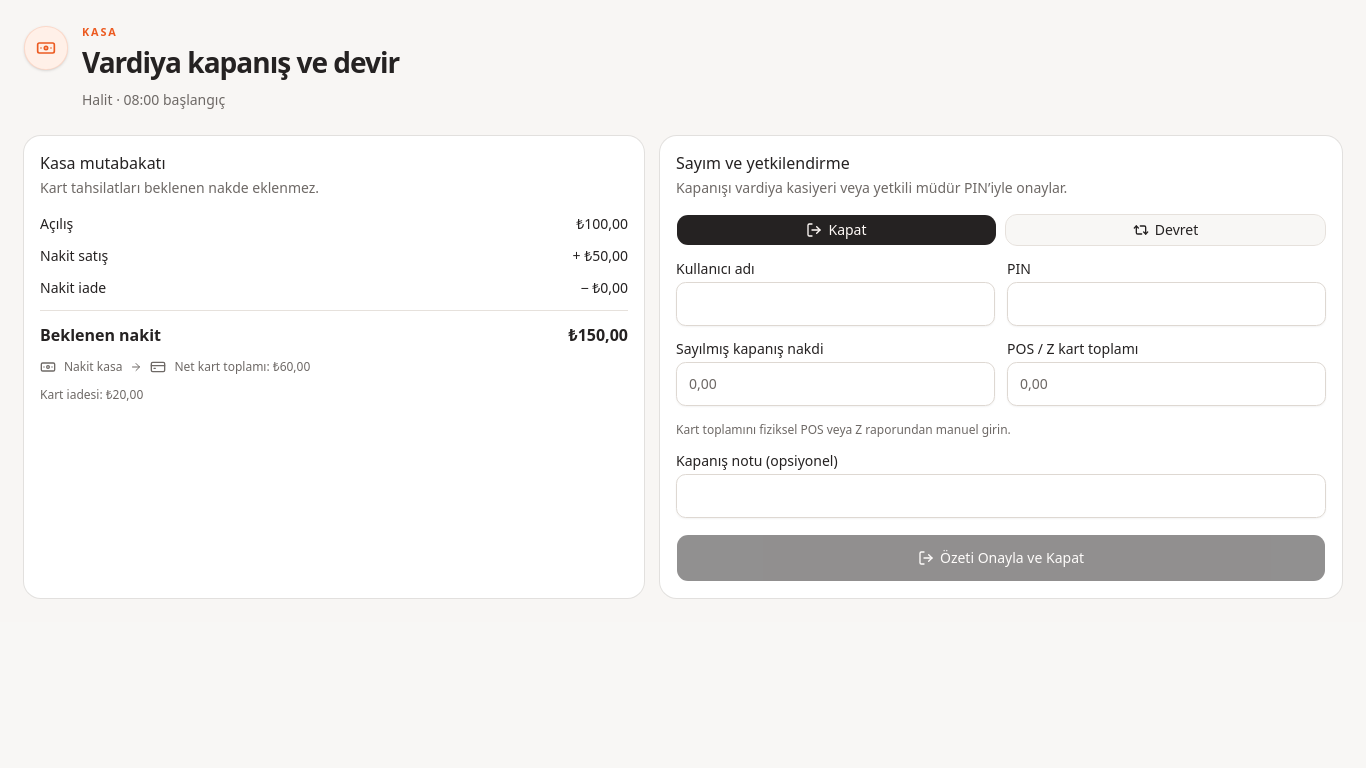
CashierShiftPage › compares the POS total with net card sales: 60,00
Expected: the heading "Vardiya kapanış ve devir" is shown, [82,44,399,82]
Step 1. Type "150,00" into the field labelled "Sayılmış kapanış nakdi" → (836, 384), box [676,362,995,406]
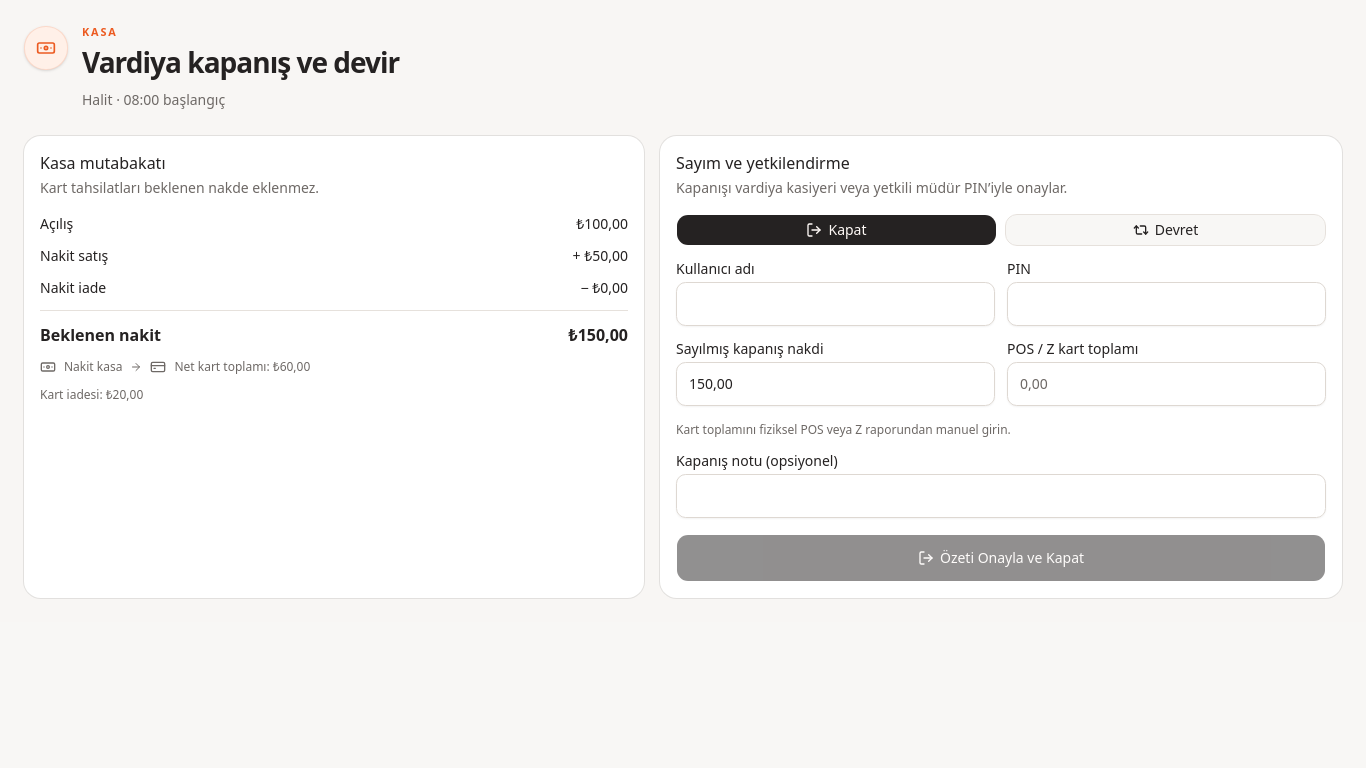
Step 2. Type "60,00" into the field labelled "POS / Z kart toplamı" → (1166, 384), box [1007,362,1326,406]
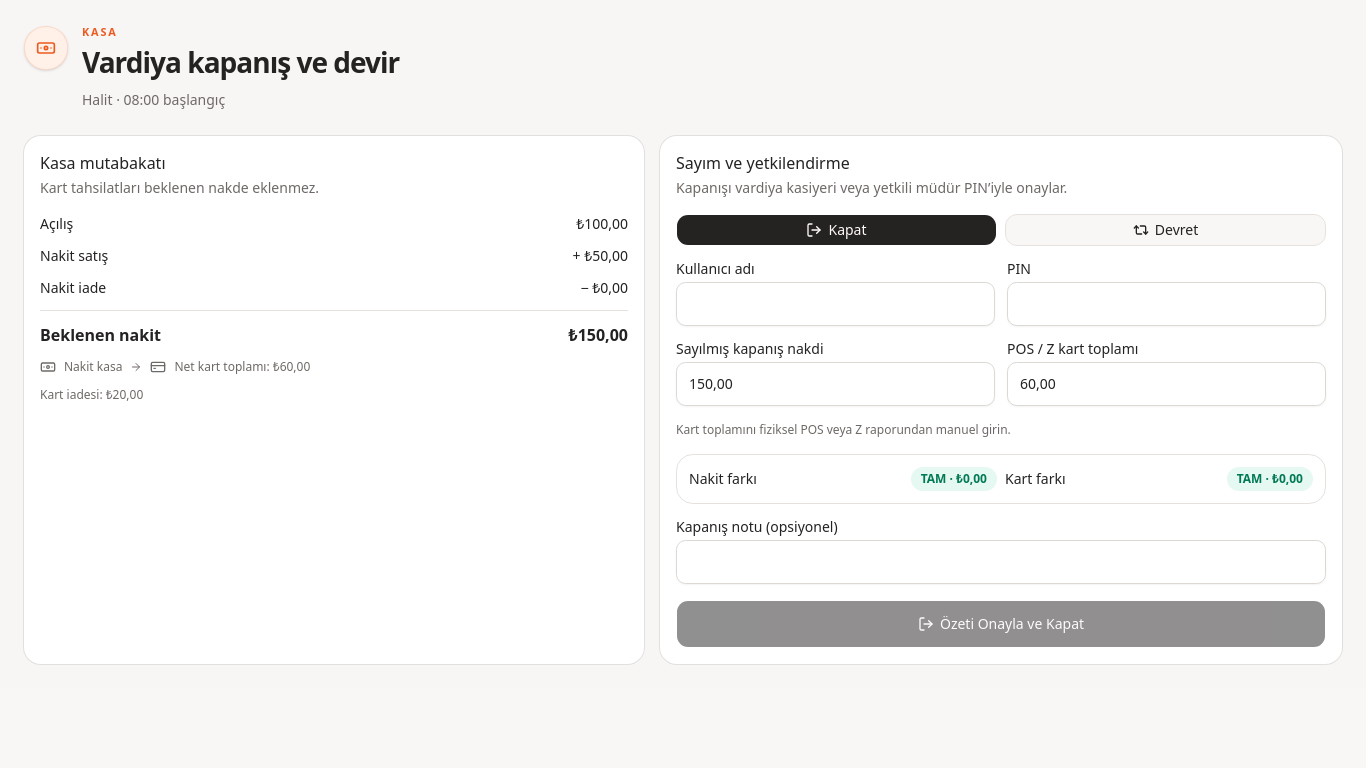
Expected: the text "Nakit kasa Net kart toplamı: ₺60,00" is shown, [40,358,310,375]
Expected: the text "TAM · ₺0,00" is shown 2 times, [911,467,997,491]; [1227,467,1313,491]
